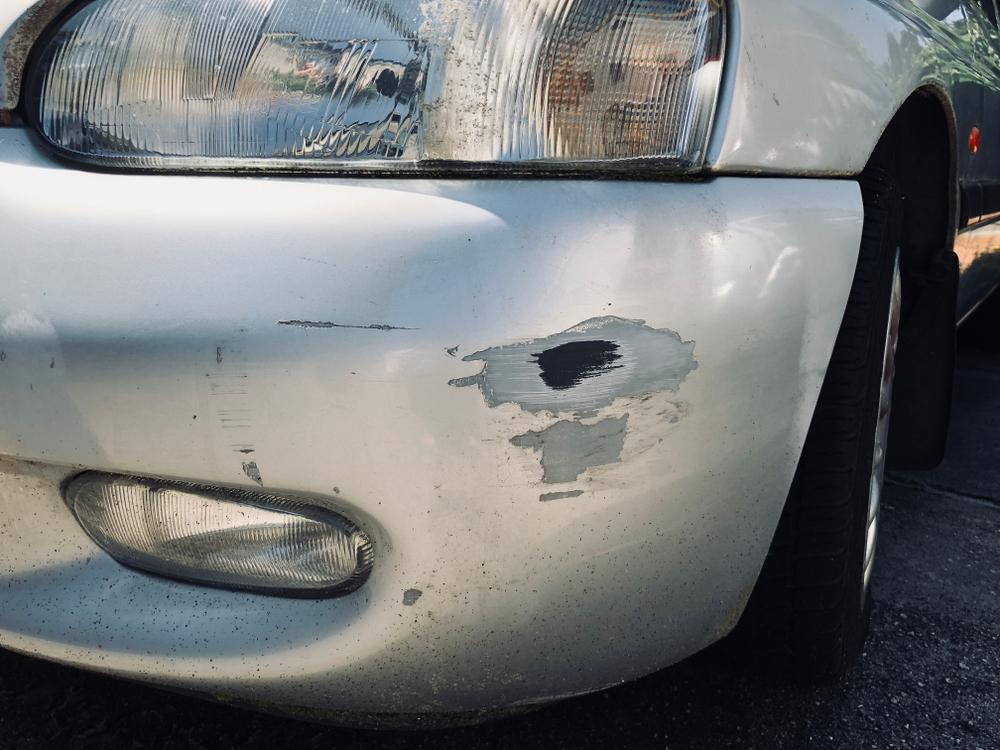scratch: (437, 308, 707, 512), (208, 317, 414, 490)
